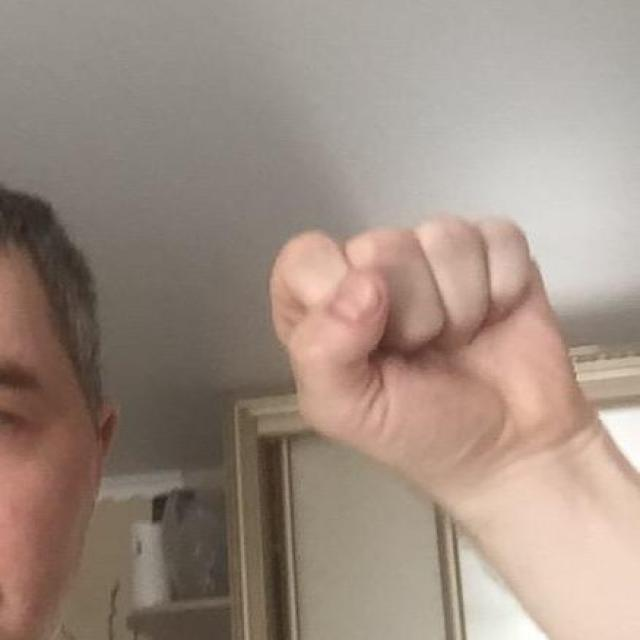hand: (266, 210, 599, 508)
